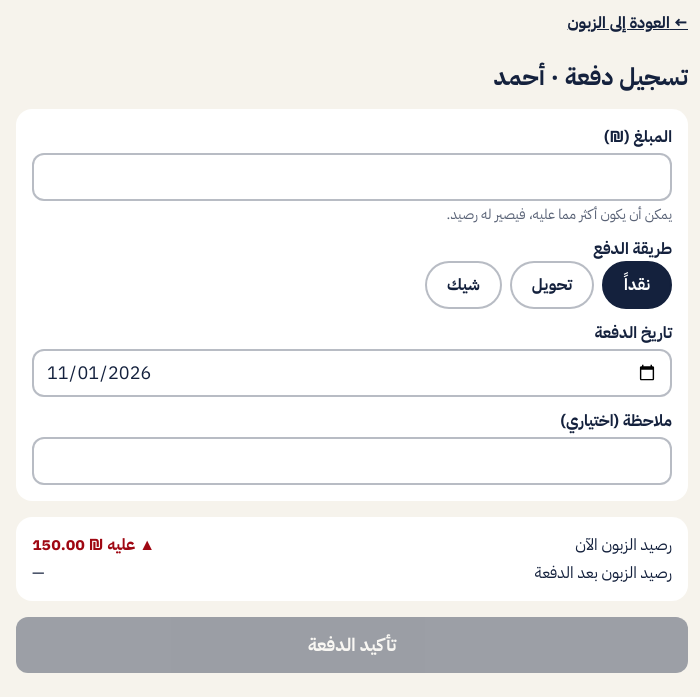
Test case: payment screen › more than he owes warns that he will have credit, and is allowed
Type "200" into the field labelled "المبلغ (₪)" at (352, 177), box [32,153,672,201]
(page scrolled)
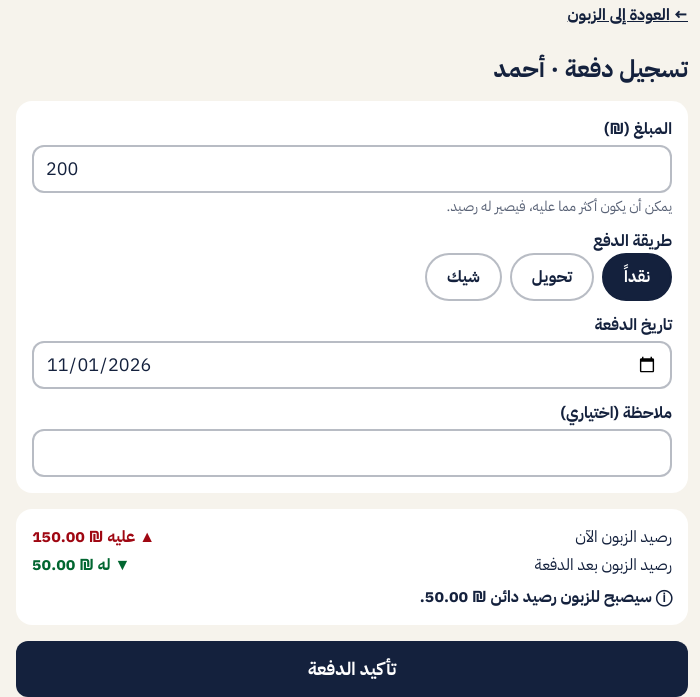
Check: the message shows "50.00", box [420,585,652,609]
Check: the button "تأكيد الدفعة" is enabled, box [16,641,688,696]
